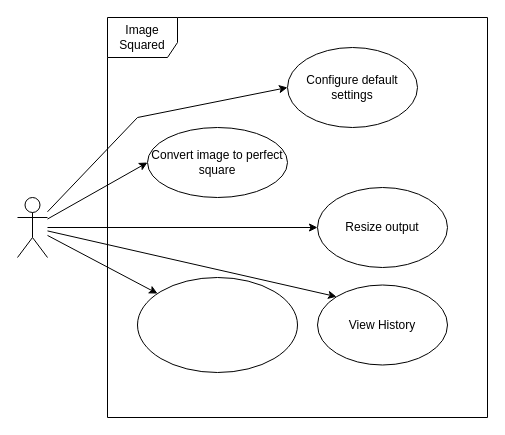
Image size: 505x435. Some labels were removed from this diagram. The centre of each missing label's shape, as x and y in pixels:
Convert image to perfect square with custom padding: (217,324)
User: (32,227)
